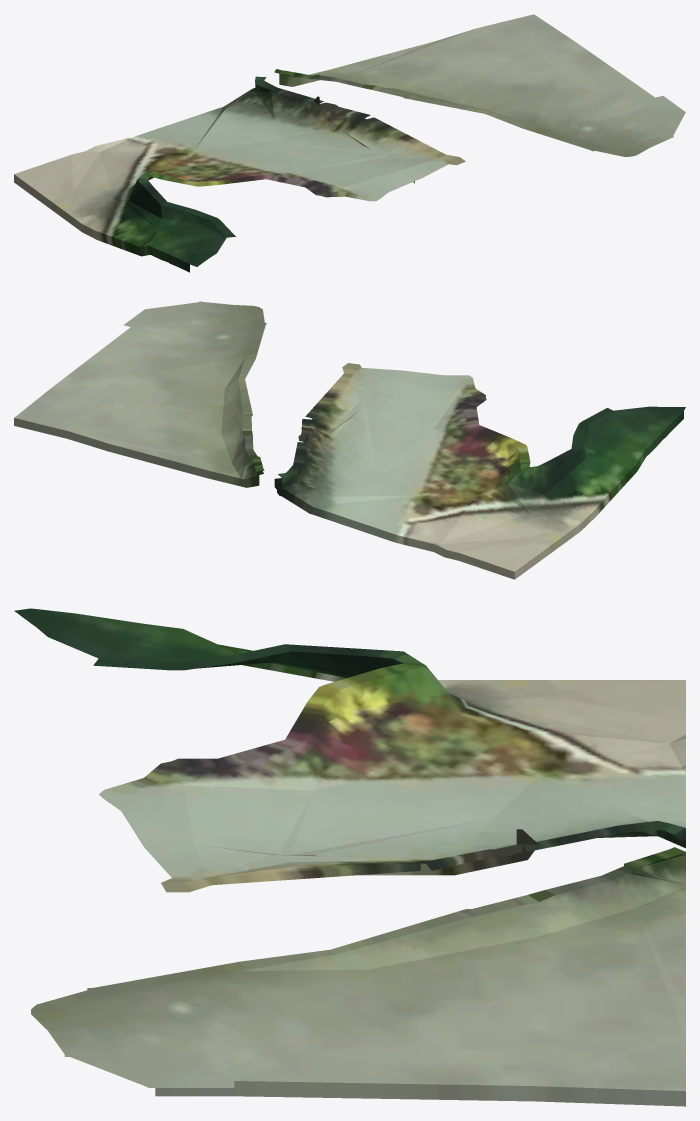
Rendered from BuildingMesh-00023.gltf.
3 views of the same model, one above another, from view 1: azimuth 30°, elevation 25°; view 2: azimuth 150°, elevation 25°; view 3: azimuth 270°, elevation 25° (orthographic). The views are drawn at different scales.
Parts seen in each view (by area): view 1: BuildingMesh-00023; view 2: BuildingMesh-00023; view 3: BuildingMesh-00023.
Part boxes in pixels (bbox=[...]): BuildingMesh-00023: bbox=[14, 14, 685, 272]; BuildingMesh-00023: bbox=[14, 301, 685, 579]; BuildingMesh-00023: bbox=[14, 608, 685, 1106].
Size of the model in its own units: 0.7882 by 0.0784 by 0.4667.
1 material, 1 textured.
